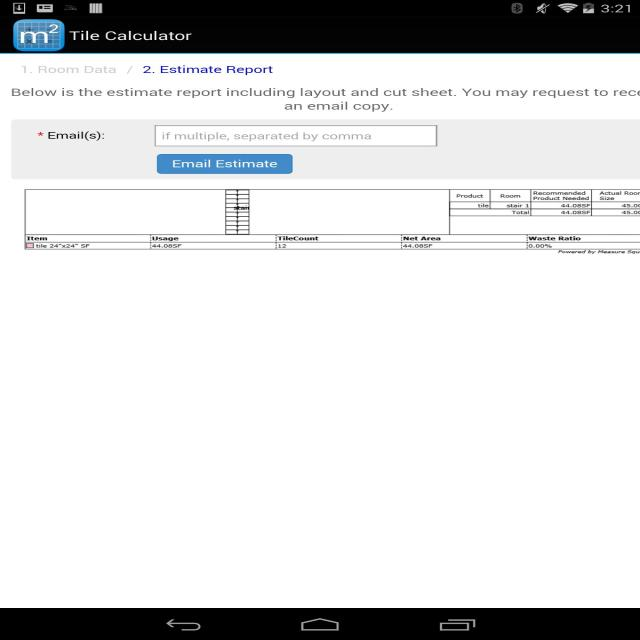button: (158, 153, 290, 174)
field: (151, 124, 439, 149)
heading: (68, 28, 195, 45)
image: (21, 189, 640, 257), (14, 21, 64, 53)
label: (156, 129, 372, 144)
text: (8, 86, 640, 117), (18, 63, 276, 78), (37, 127, 108, 145)
